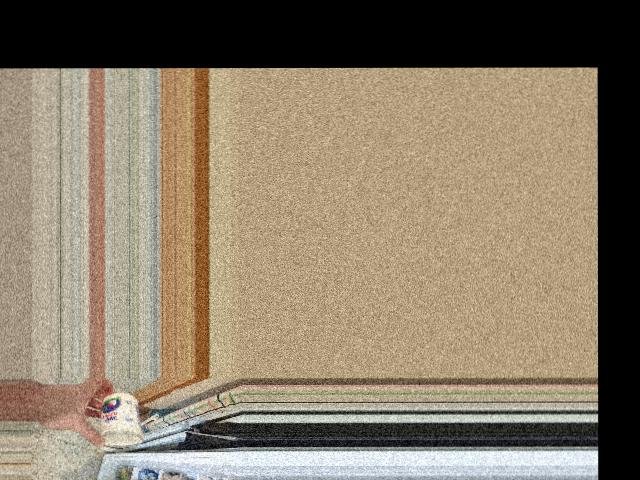cotage: (100, 388, 144, 444)
